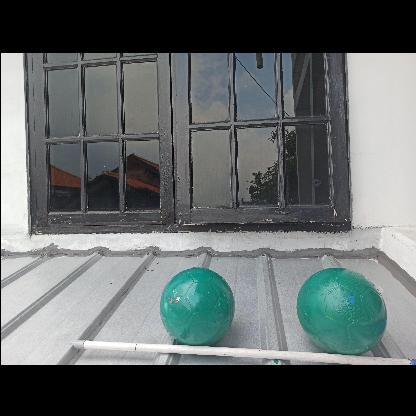green_ball: (295, 263, 387, 355), (158, 268, 235, 344)
